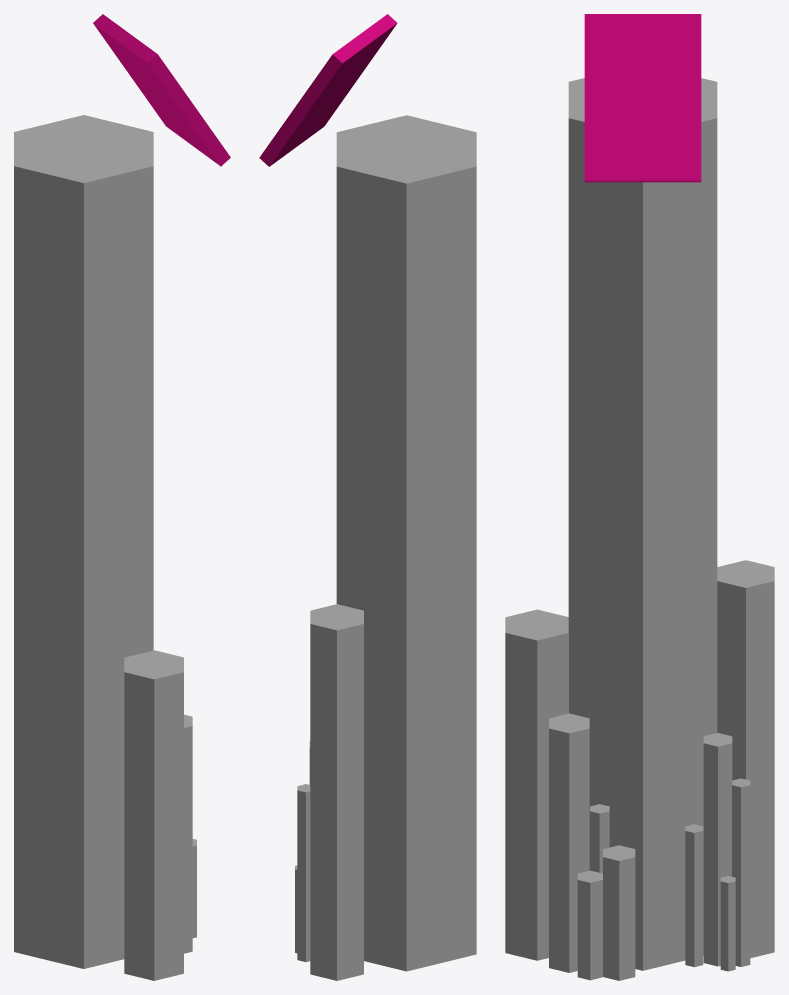
File: handKeyNew.fbx
3 renders of one model, left to right at view 1: azimuth 30°, elevation 25°; view 2: azimuth 150°, elevation 25°; view 3: azimuth 270°, elevation 25°, orthographic. The views are drawn at different scales.
Parts seen in each view (by area): view 1: polySurface15, polySurface29; view 2: polySurface15, polySurface29; view 3: polySurface15, polySurface29.
Part boxes in pixels (left/top/right/bottom): polySurface15: left=14, top=115, right=196, bottom=980; polySurface29: left=93, top=14, right=230, bottom=166; polySurface15: left=295, top=115, right=476, bottom=980; polySurface29: left=259, top=14, right=397, bottom=166; polySurface15: left=505, top=78, right=774, bottom=980; polySurface29: left=584, top=14, right=701, bottom=182.
Bounding box in the file's own units: 1.51 × 6.79 × 1.75.
